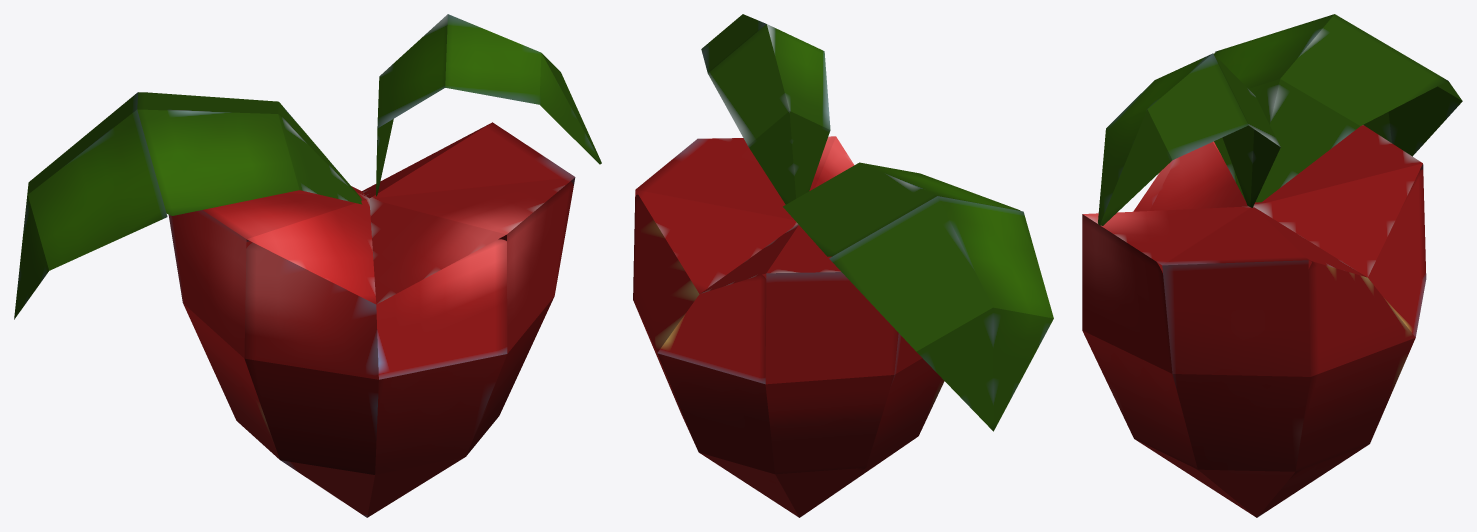
The model's file is Berry.fbx.
The picture shows the model from 3 angles, left to right: view 1: azimuth 30°, elevation 25°; view 2: azimuth 150°, elevation 25°; view 3: azimuth 270°, elevation 25°; orthographic projection. The views are drawn at different scales.
Parts seen in each view (by area): view 1: sphere_selection; view 2: sphere_selection; view 3: sphere_selection.
Part boxes in pixels (x1,y1,x2,y2): sphere_selection: [14, 14, 601, 517]; sphere_selection: [633, 14, 1053, 517]; sphere_selection: [1082, 14, 1462, 517].
Size of the model in its own units: 17.7 by 18.75 by 13.14.
1 material, 1 textured.
